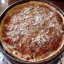pizza: (2, 2, 64, 62)
